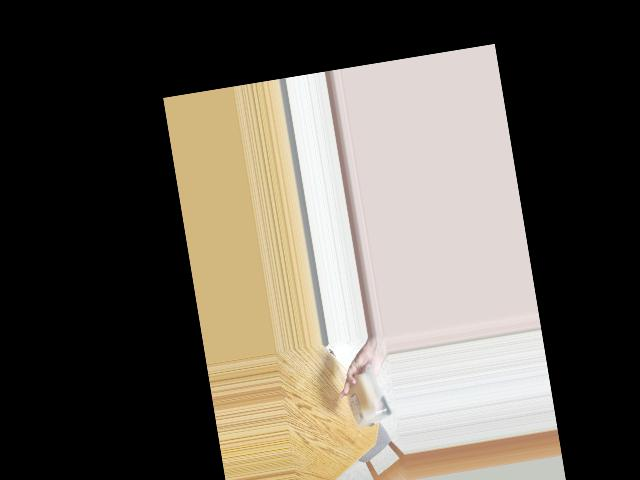cheese: (341, 368, 392, 431)
